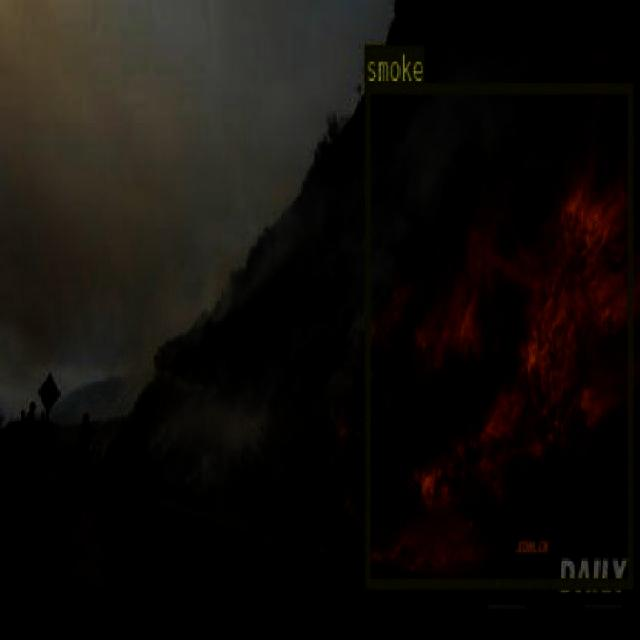smoke: (363, 83, 632, 586)
